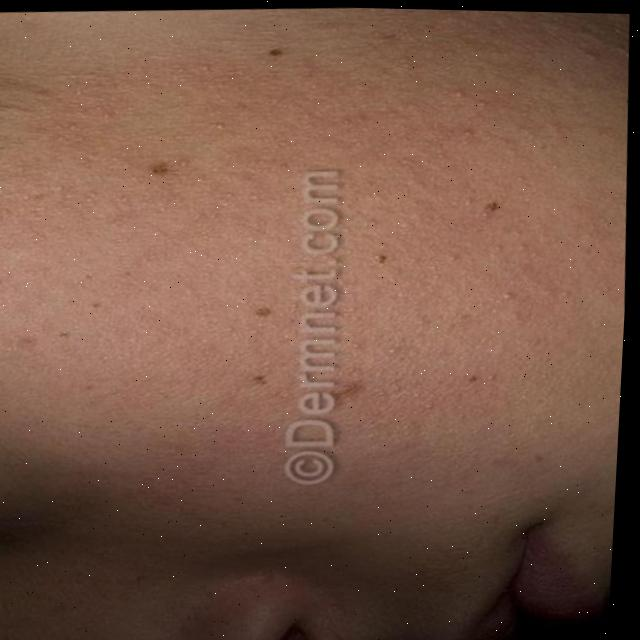Eczema: (152, 76, 449, 452)
